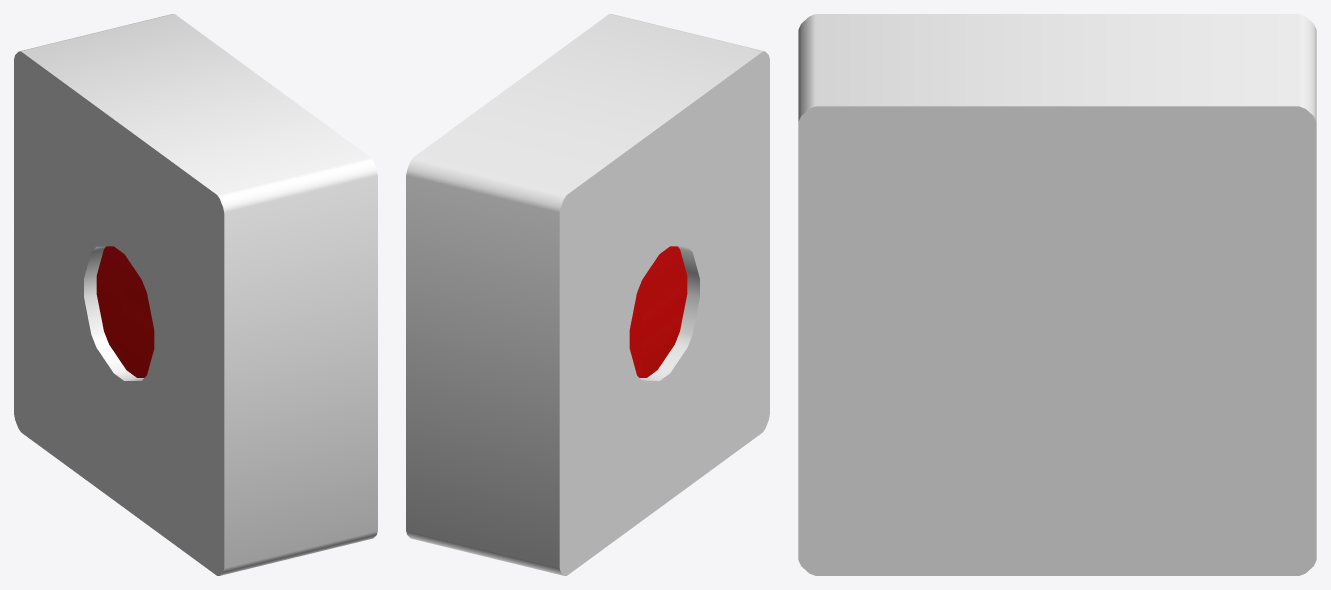
File: BJQ.gltf
3 renders of one model, left to right at view 1: azimuth 30°, elevation 25°; view 2: azimuth 150°, elevation 25°; view 3: azimuth 270°, elevation 25°, orthographic. The views are drawn at different scales.
Parts seen in each view (by area): view 1: Box002; view 2: Box002; view 3: Box002.
Boxes of the visible parts, bbox=[...] form: Box002: bbox=[14, 14, 377, 575]; Box002: bbox=[406, 14, 769, 575]; Box002: bbox=[798, 14, 1316, 575].
Bounding box in the file's own units: 0.0633 × 0.15 × 0.15.
Materials: 2 (2 with a texture image).
